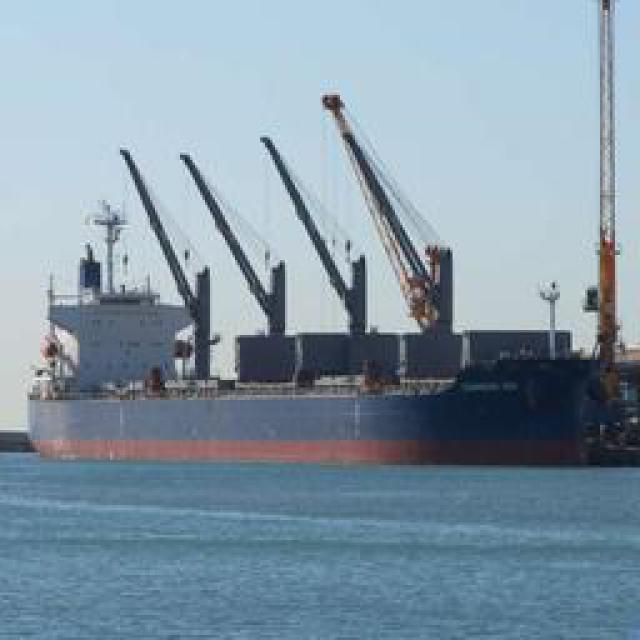Ship: (30, 173, 613, 485)
